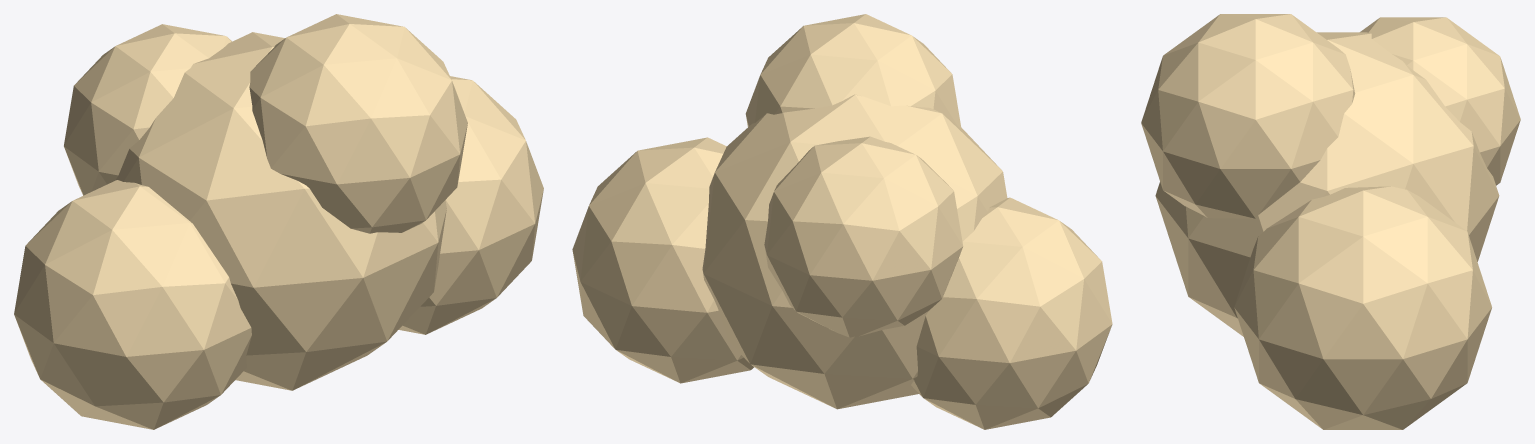
File: SD_FX_SandPuff.fbx
3 views of the same model, side by side, from view 1: azimuth 30°, elevation 25°; view 2: azimuth 150°, elevation 25°; view 3: azimuth 270°, elevation 25° (orthographic). The views are drawn at different scales.
Visible parts, largest first — view 1: SandPuff; view 2: SandPuff; view 3: SandPuff.
Boxes of the visible parts, bbox=[...] form: SandPuff: bbox=[14, 14, 543, 429]; SandPuff: bbox=[572, 14, 1112, 429]; SandPuff: bbox=[1141, 14, 1520, 429].
Size of the model in its own units: 0.7929 by 0.54 by 0.53.
